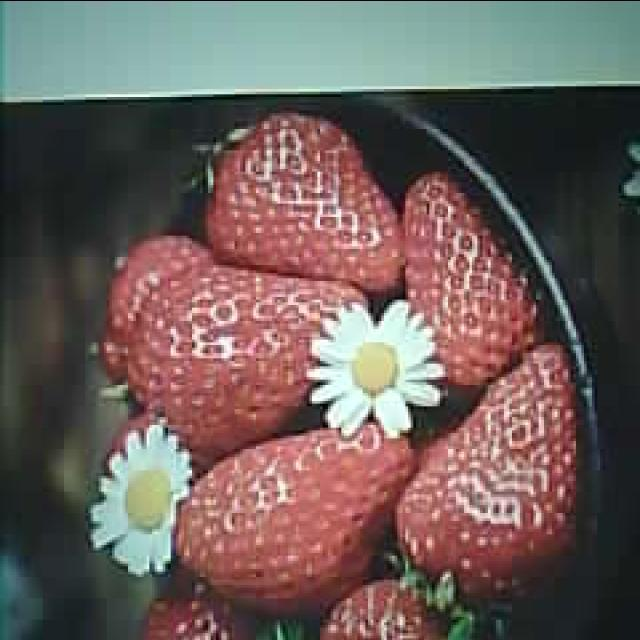strawberry: (176, 424, 414, 610), (397, 344, 573, 590), (132, 268, 366, 448), (202, 112, 402, 290), (405, 175, 545, 388)
